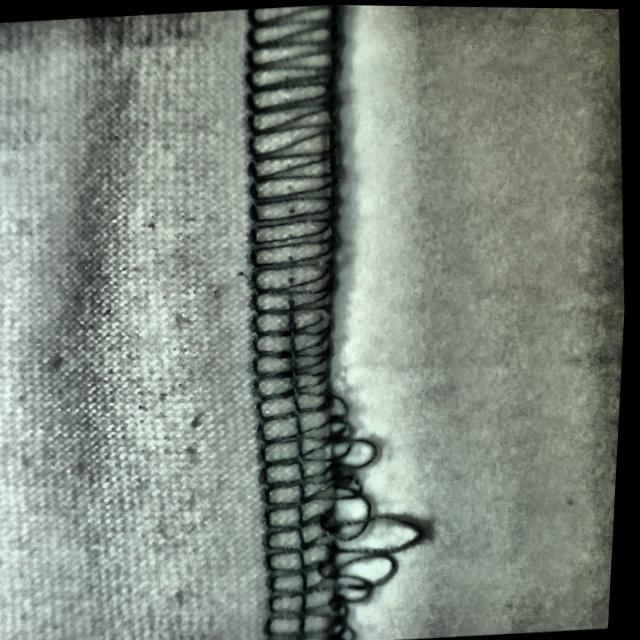Stitch: (243, 382, 443, 640)
